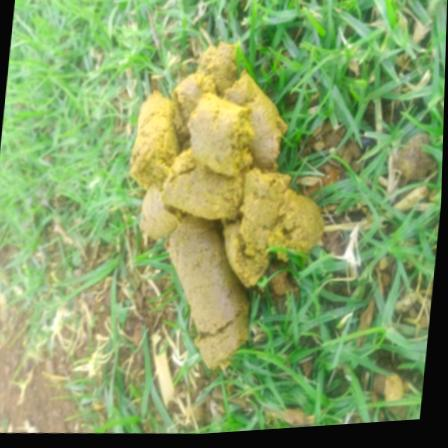dog-poop: (120, 48, 342, 356)
